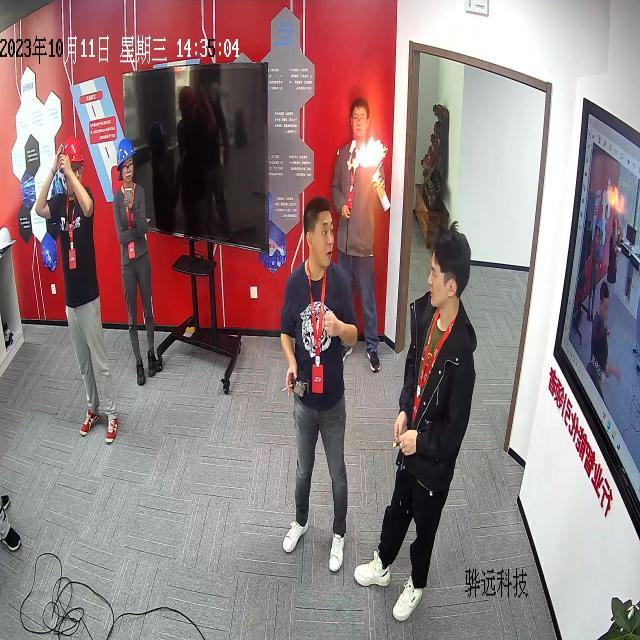Fire: (351, 138, 387, 168)
